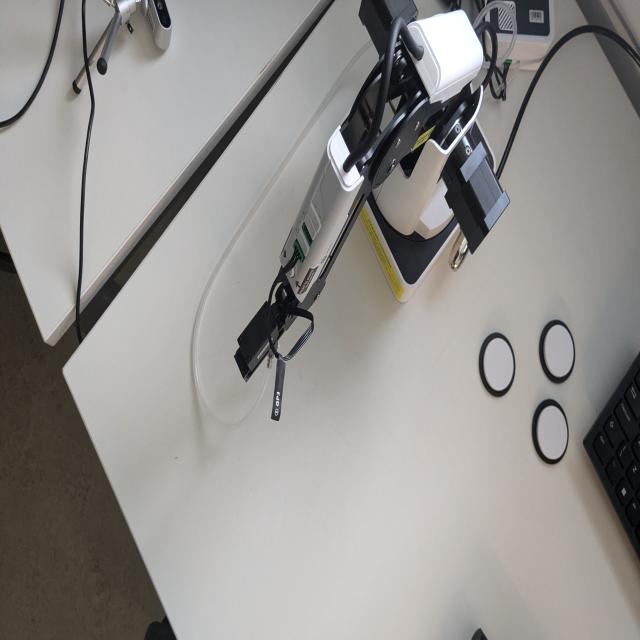Robot-end-effector-HF8z: (232, 298, 282, 387)
